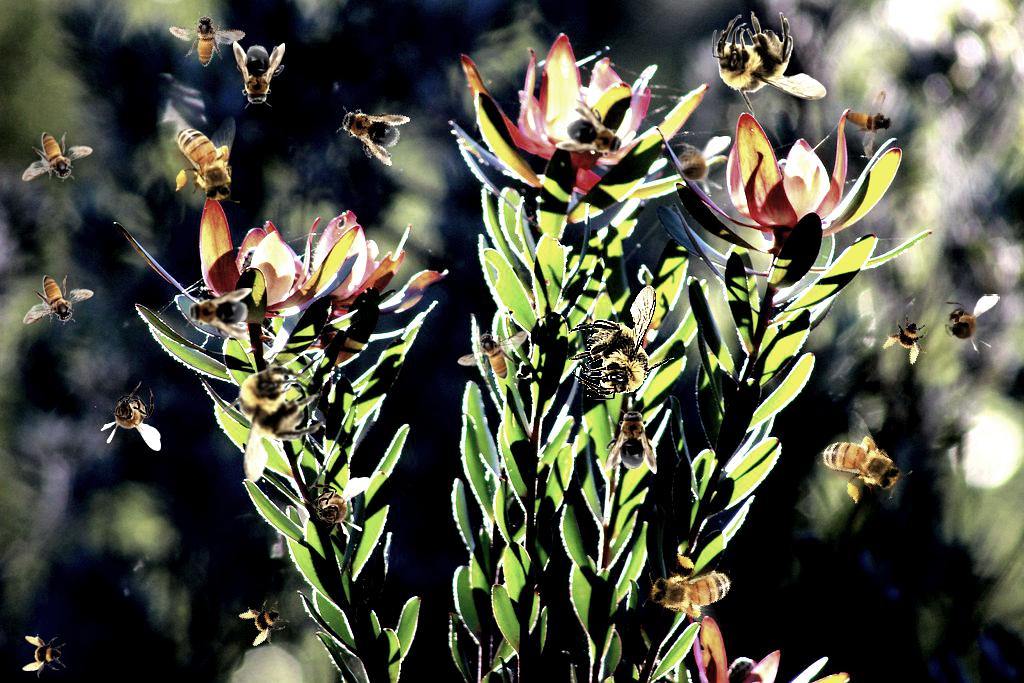Bee: (207, 354, 334, 489), (805, 405, 917, 520), (712, 11, 827, 118), (568, 285, 675, 400), (635, 542, 749, 641), (829, 76, 913, 163), (161, 0, 247, 77), (172, 116, 240, 209), (553, 98, 637, 172), (329, 94, 411, 168), (100, 381, 161, 451), (300, 477, 370, 538), (930, 294, 1000, 355), (661, 136, 731, 197), (234, 592, 296, 654), (879, 309, 939, 369), (23, 275, 94, 325), (457, 330, 528, 380), (22, 132, 93, 182), (233, 41, 285, 109), (605, 406, 657, 474), (184, 288, 252, 340), (22, 634, 66, 678)
